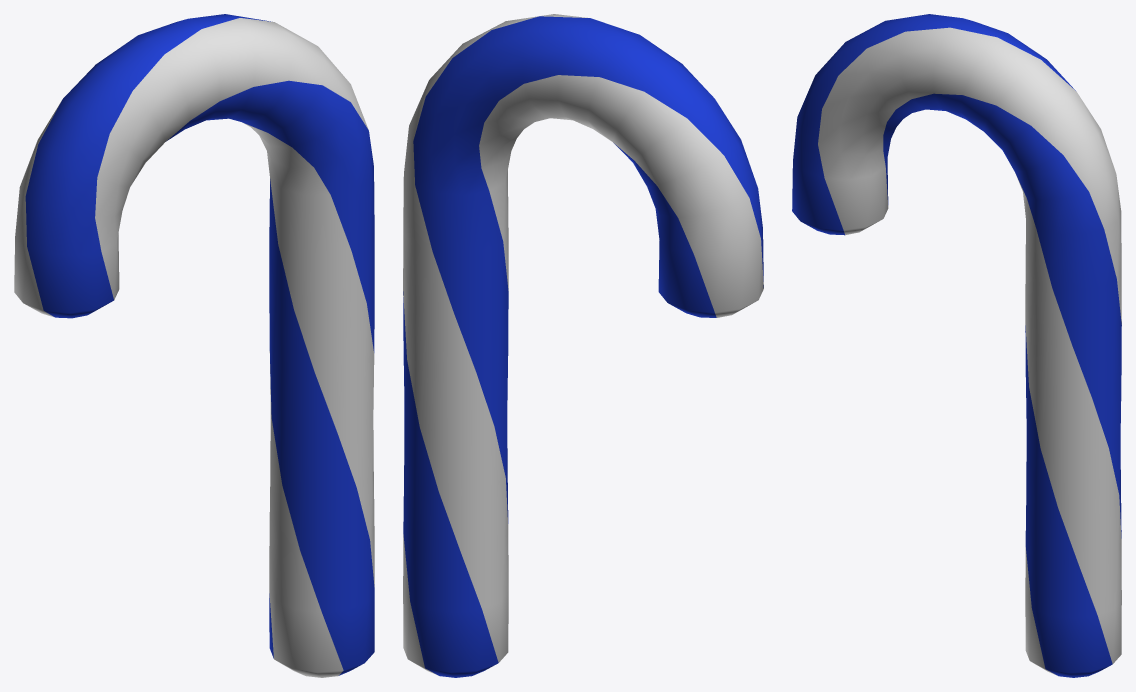
File: candy_cane.glb
The picture shows the model from 3 angles, left to right: view 1: azimuth 30°, elevation 25°; view 2: azimuth 150°, elevation 25°; view 3: azimuth 330°, elevation 25°; orthographic projection. The views are drawn at different scales.
Visible parts, largest first — view 1: candy_cane; view 2: candy_cane; view 3: candy_cane.
Part boxes in pixels (box(x1,y1,x2,y2)): candy_cane: box(14, 14, 374, 677); candy_cane: box(403, 14, 763, 677); candy_cane: box(792, 14, 1121, 677).
Size of the model in its own units: 0.5396 by 1 by 0.1423.
